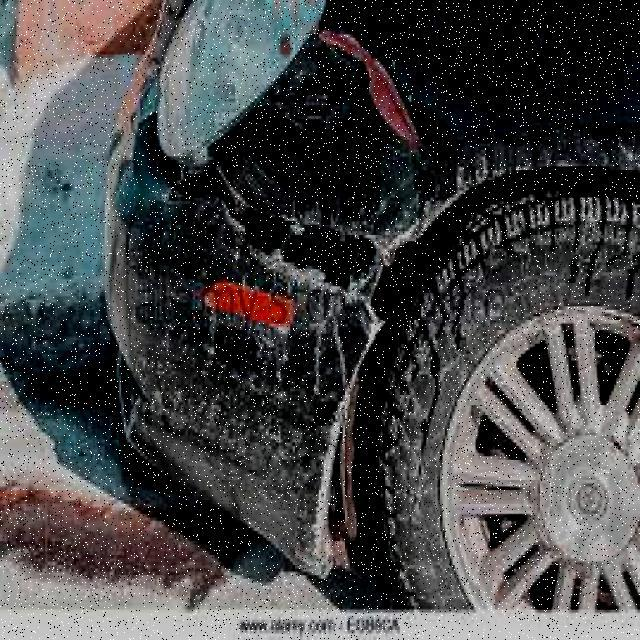car damage: (110, 24, 640, 589)
